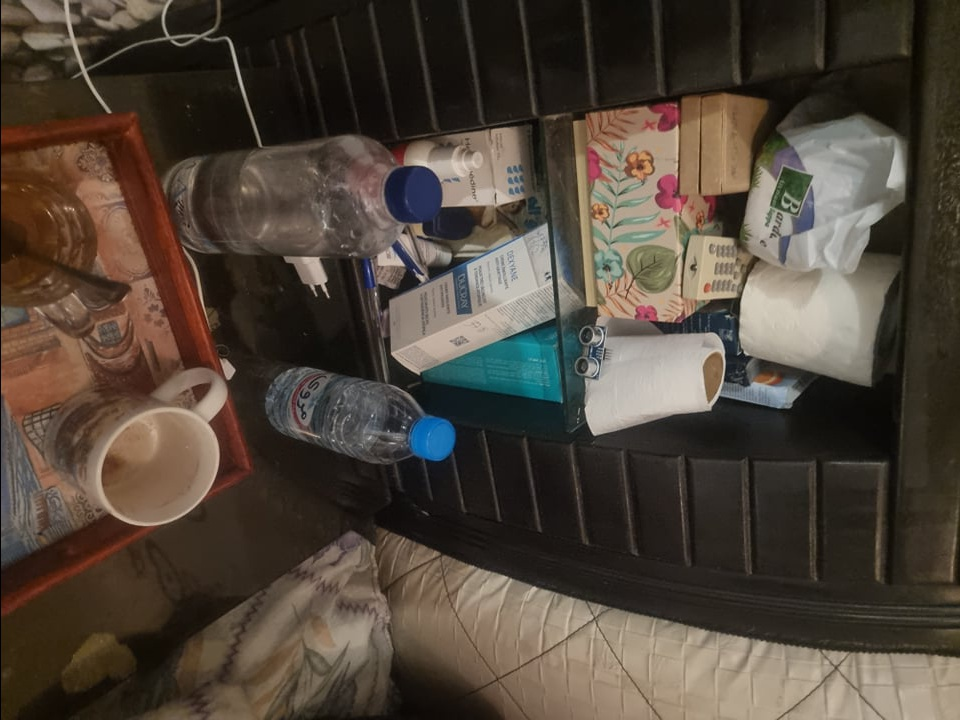SENSOR: (572, 321, 609, 380)
